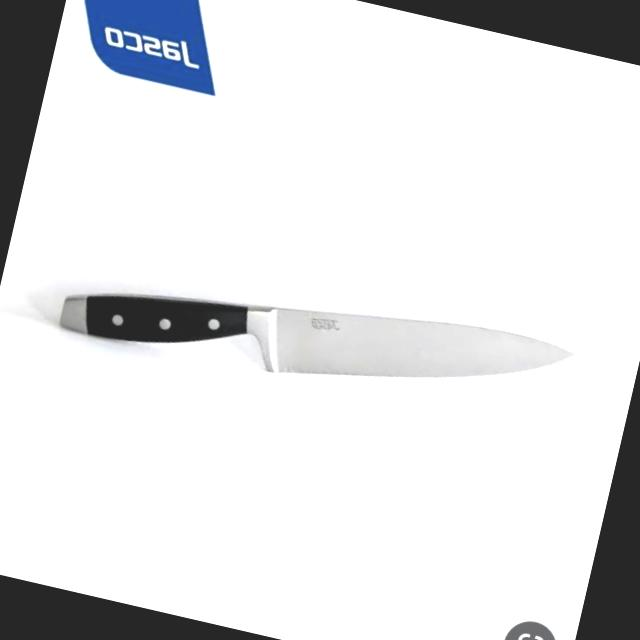knife: (47, 224, 587, 460)
